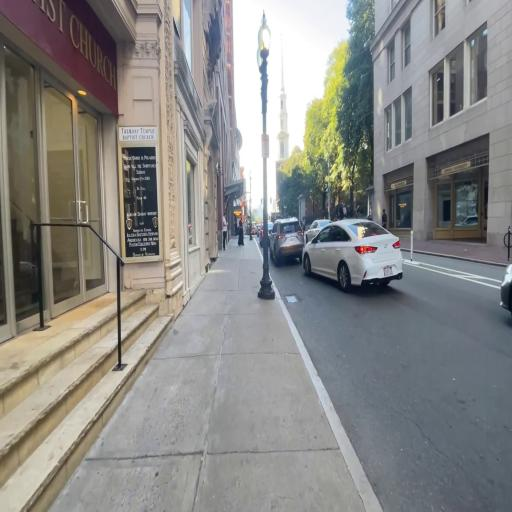Street_Light: (252, 4, 280, 308)
